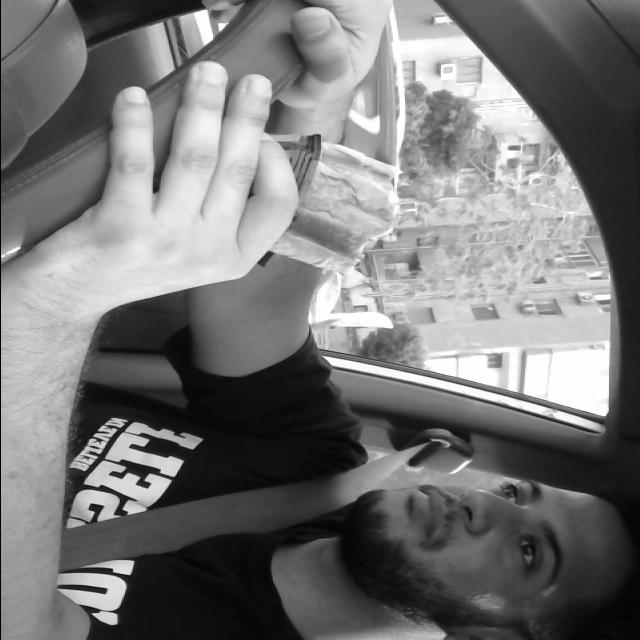eating: (126, 116, 410, 272)
